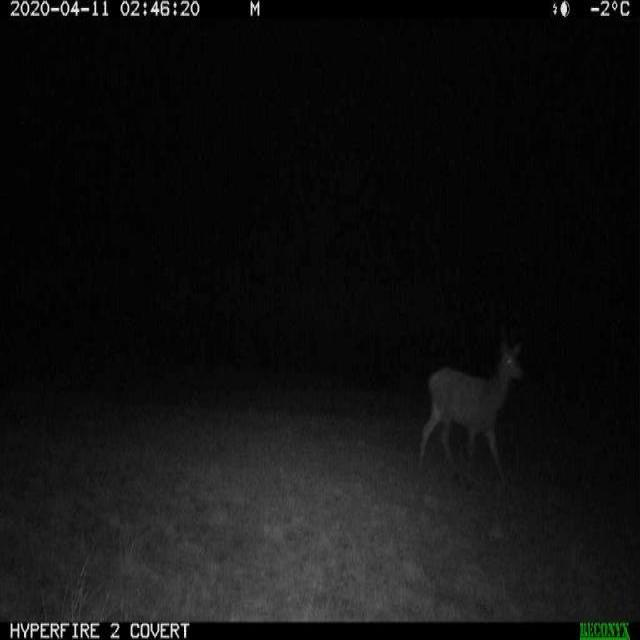deer: (416, 323, 528, 500)
